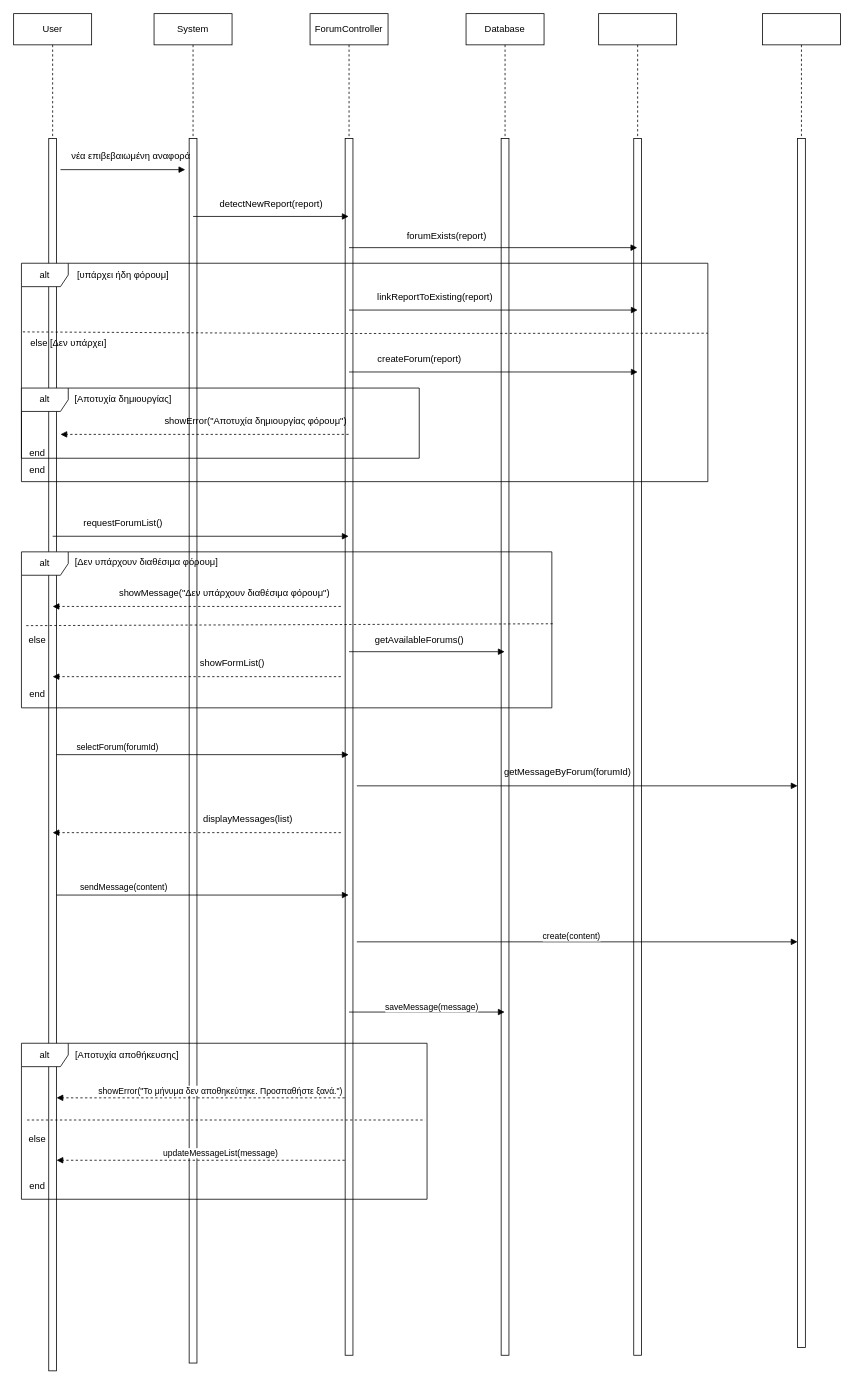
Some shapes in this 854 by 1385 pixel diagram are drawn without their labels. The shapes that lost their labels are listed below. From the top down, each one's box as (x1, y1, x2, y2) in pixels, then its label:
(762, 13, 840, 770): Message
(598, 13, 677, 1355): Forum
